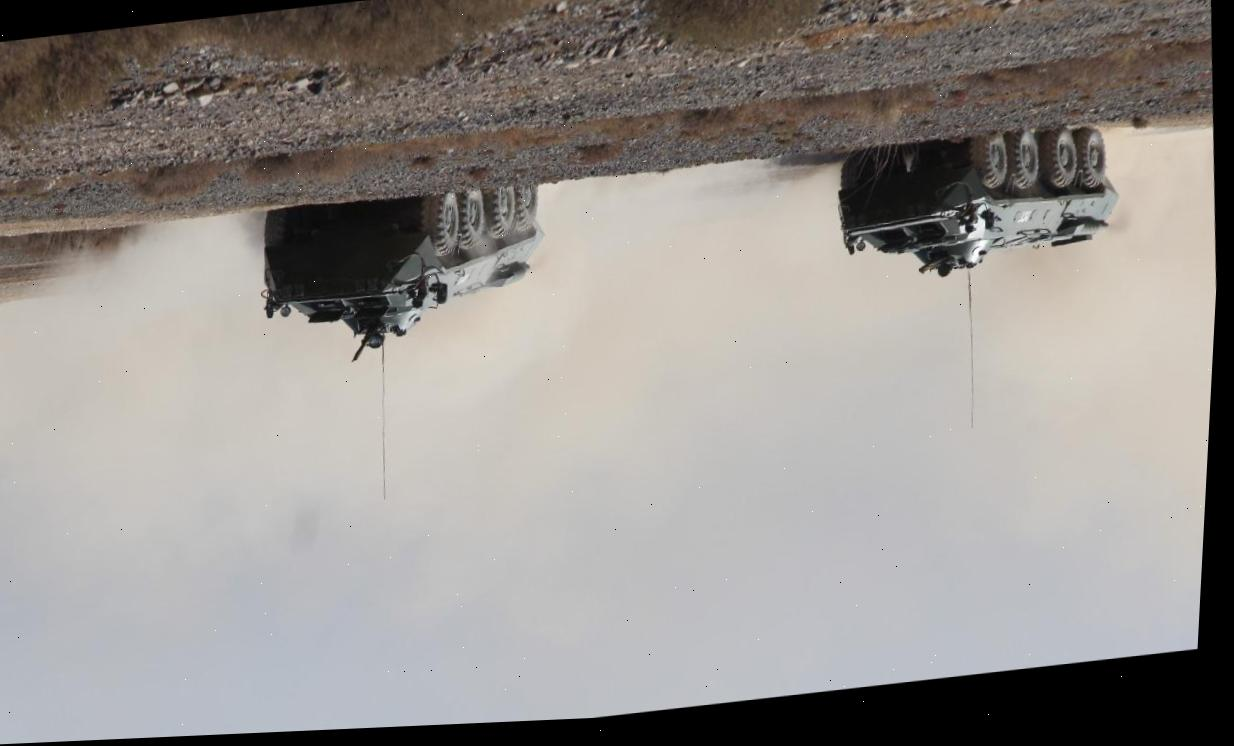tank: (251, 178, 556, 377), (827, 116, 1129, 290)
